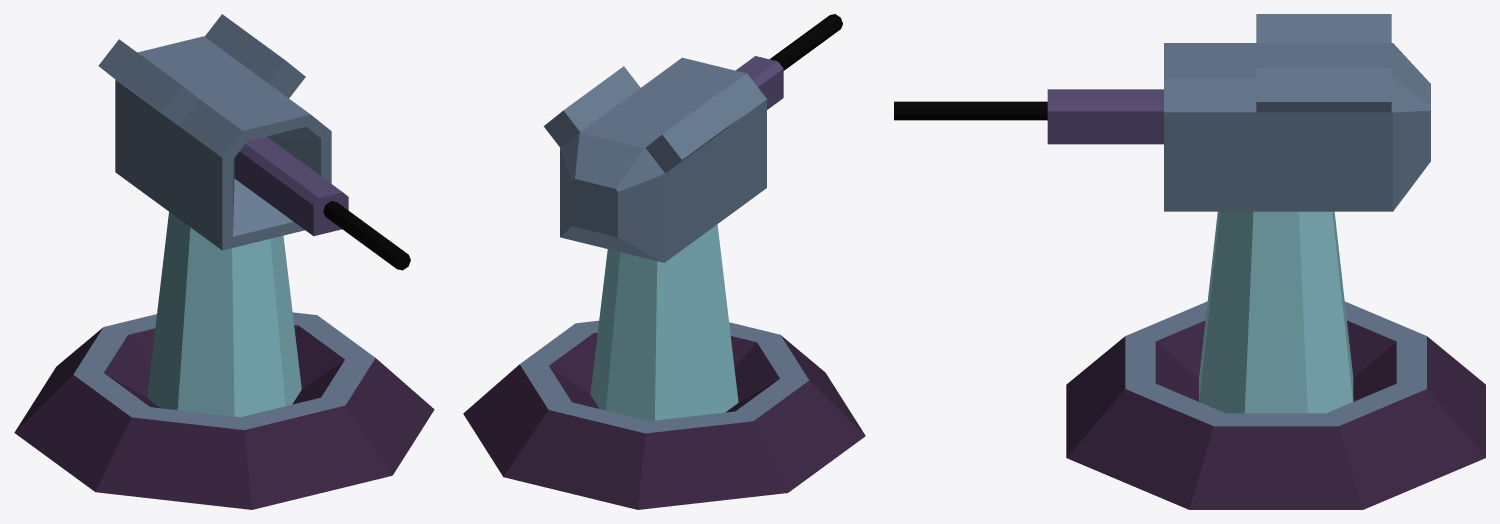
The model's file is Cannon.fbx.
3 views of the same model, side by side, from view 1: azimuth 30°, elevation 25°; view 2: azimuth 150°, elevation 25°; view 3: azimuth 270°, elevation 25° (orthographic). The views are drawn at different scales.
Parts seen in each view (by area): view 1: Cannon_base, Cannon_body, Cannon_shaft, Cannon_turret; view 2: Cannon_base, Cannon_body, Cannon_shaft, Cannon_turret; view 3: Cannon_base, Cannon_body, Cannon_shaft, Cannon_turret.
Boxes of the visible parts, x1,y1,x2,y2 form: Cannon_base: (14, 312, 434, 509); Cannon_body: (98, 14, 331, 250); Cannon_shaft: (147, 212, 301, 417); Cannon_turret: (234, 136, 410, 270); Cannon_base: (463, 320, 865, 509); Cannon_body: (543, 57, 766, 262); Cannon_shaft: (590, 224, 738, 420); Cannon_turret: (736, 14, 842, 109); Cannon_base: (1066, 301, 1485, 509); Cannon_body: (1164, 14, 1430, 211); Cannon_shaft: (1199, 211, 1353, 413); Cannon_turret: (894, 89, 1163, 144).
Size of the model in its own units: 129 by 129 by 182.
